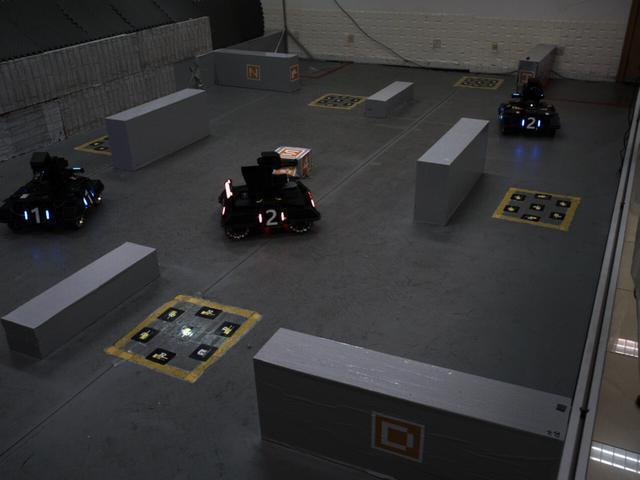armor: (19, 202, 54, 227), (251, 206, 289, 229), (78, 182, 99, 212), (519, 112, 545, 134)
